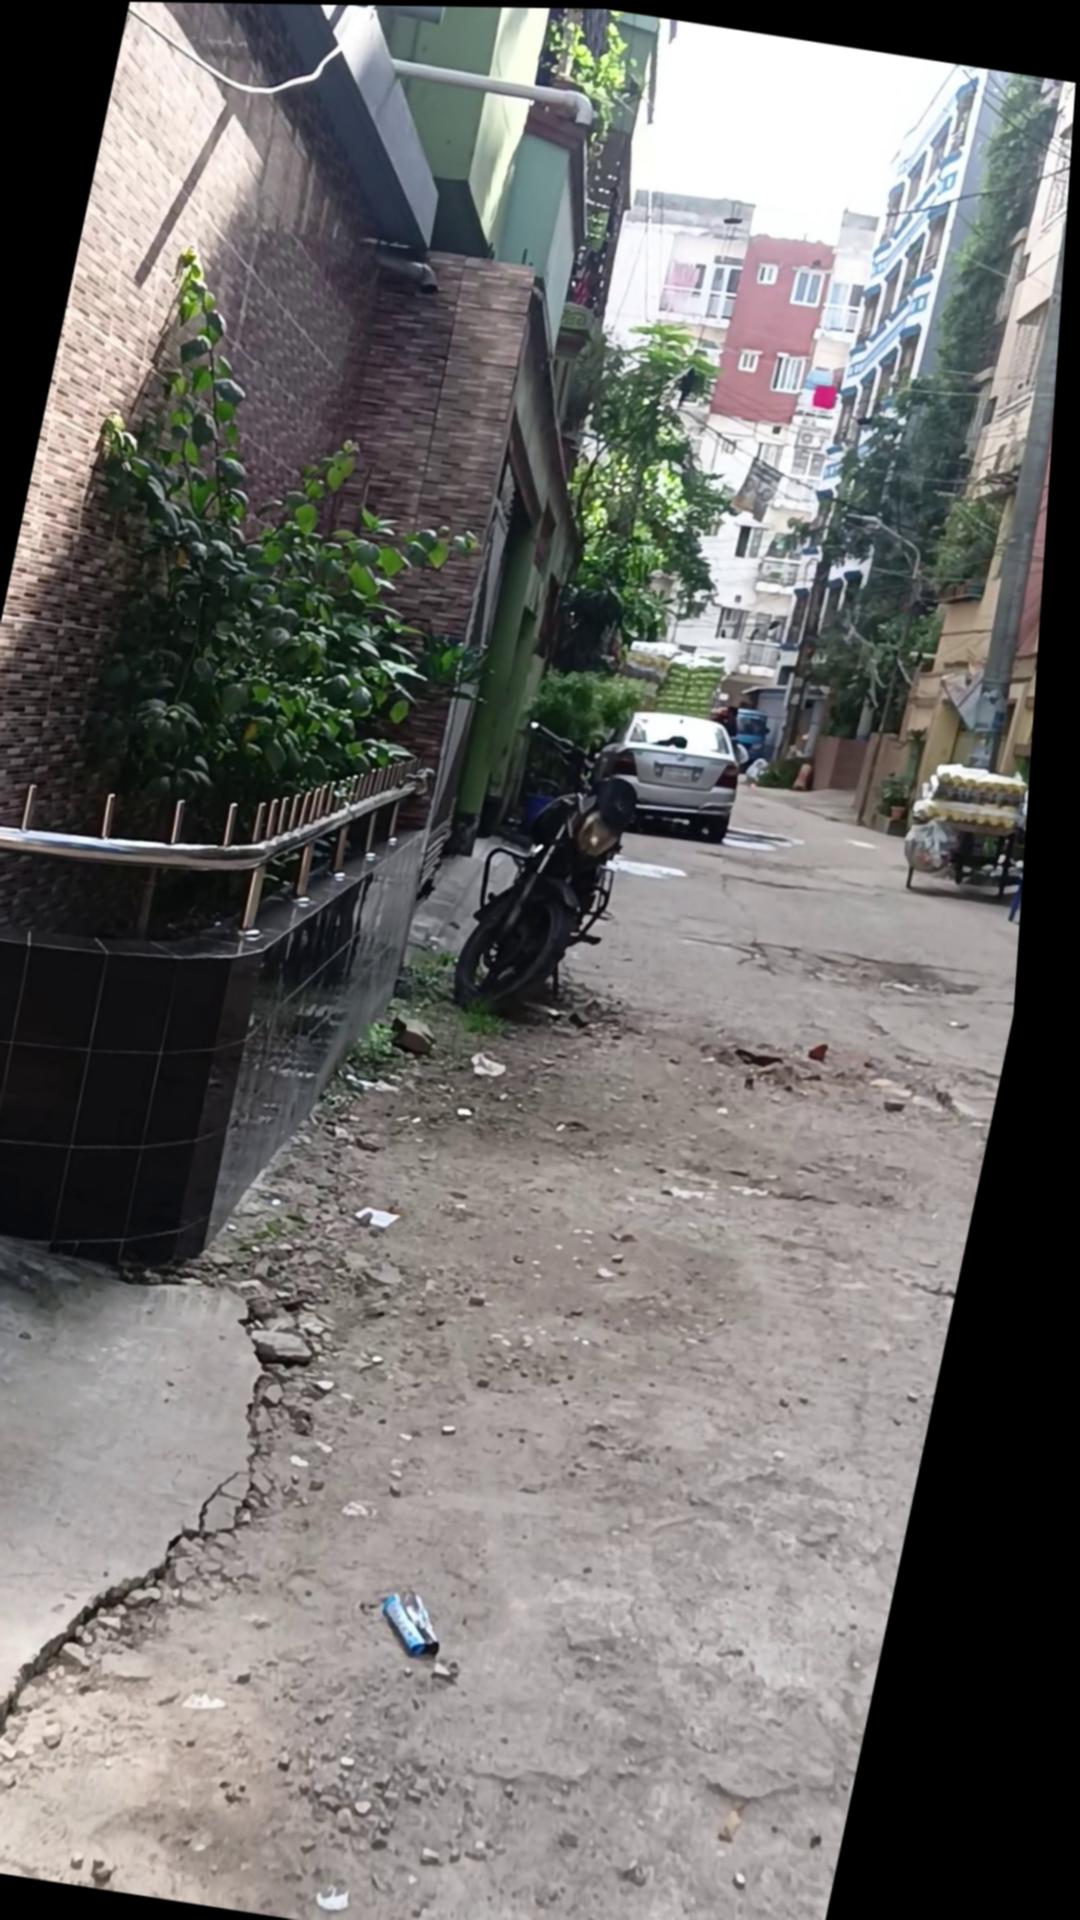Broken-road: (0, 680, 1044, 1920)
Car: (591, 698, 765, 841)
Light-pole: (456, 709, 665, 1030)
Obstacle: (953, 79, 1076, 770)
Pothole: (903, 752, 1042, 901)
